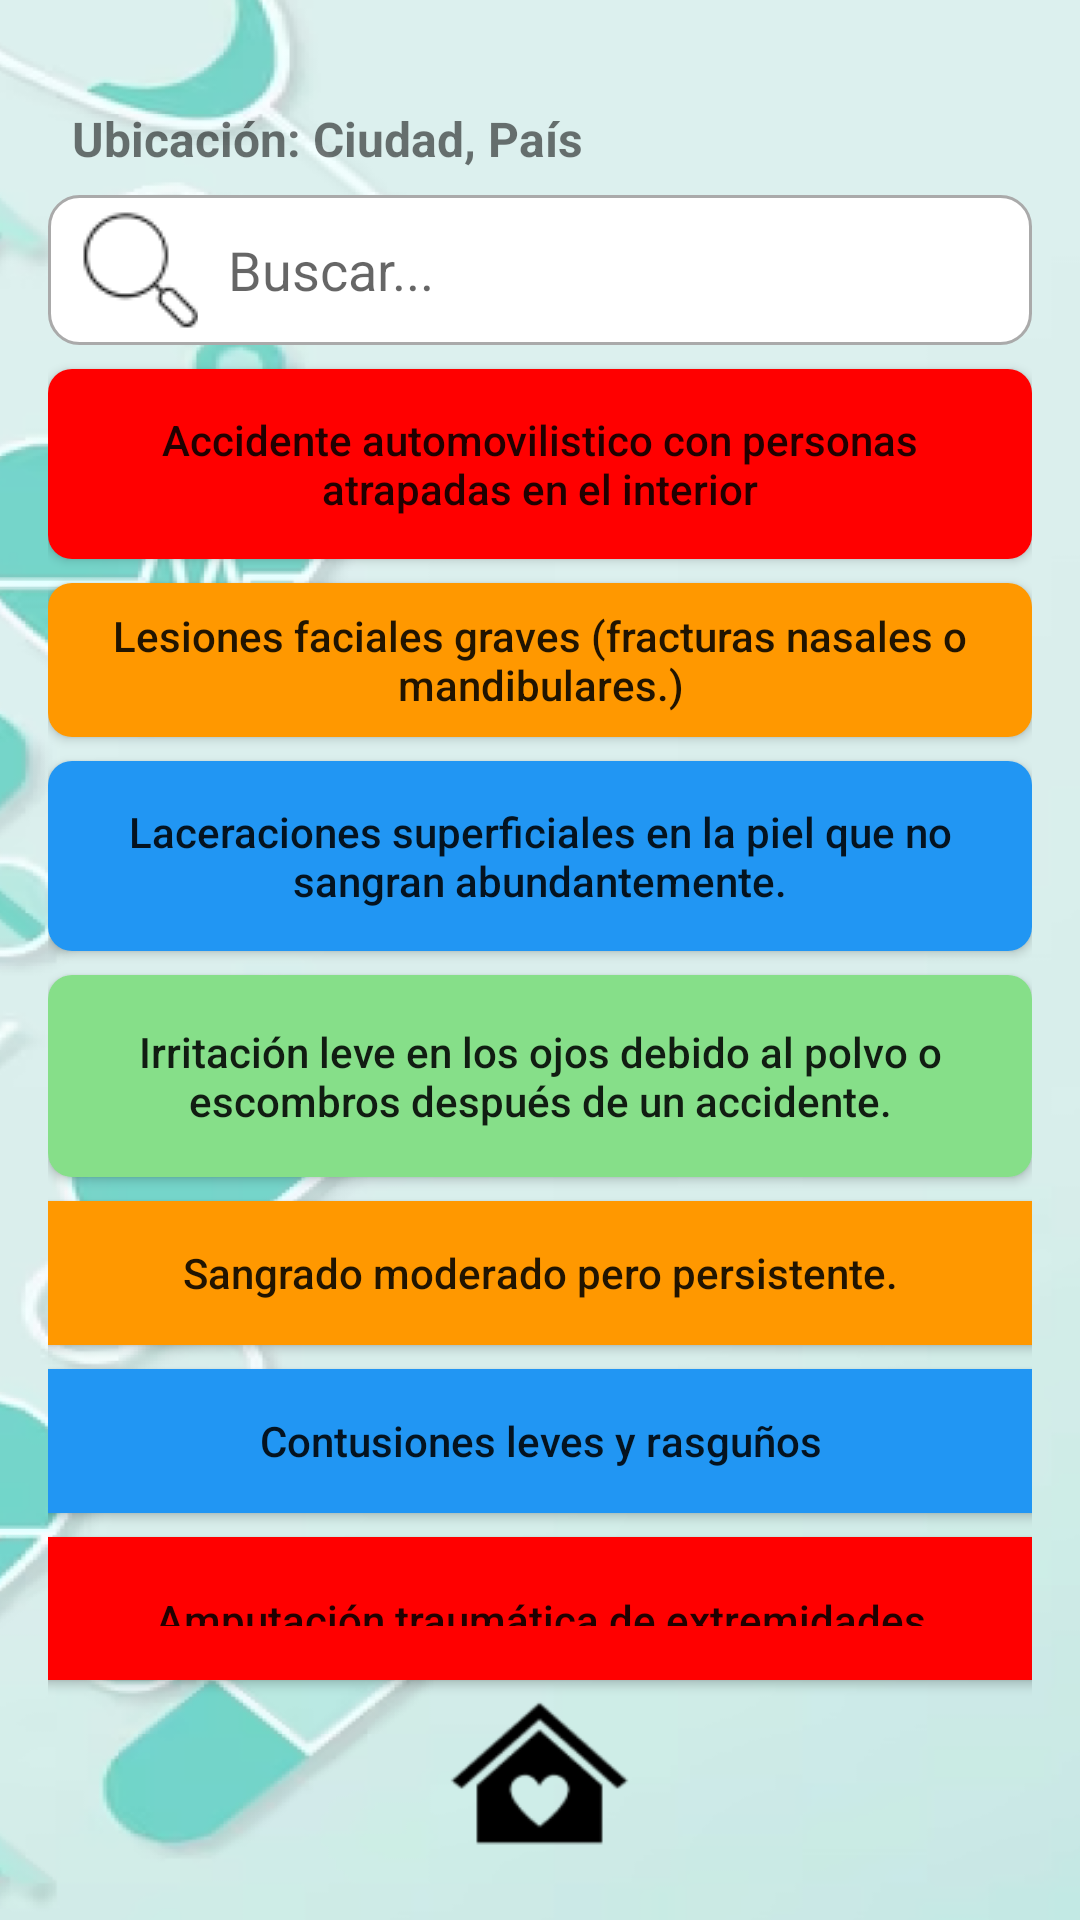

Icons on this 1080x1920 Android screen, each with its box as (x1, y1, x2, y2):
home: (451, 1703, 628, 1845)
